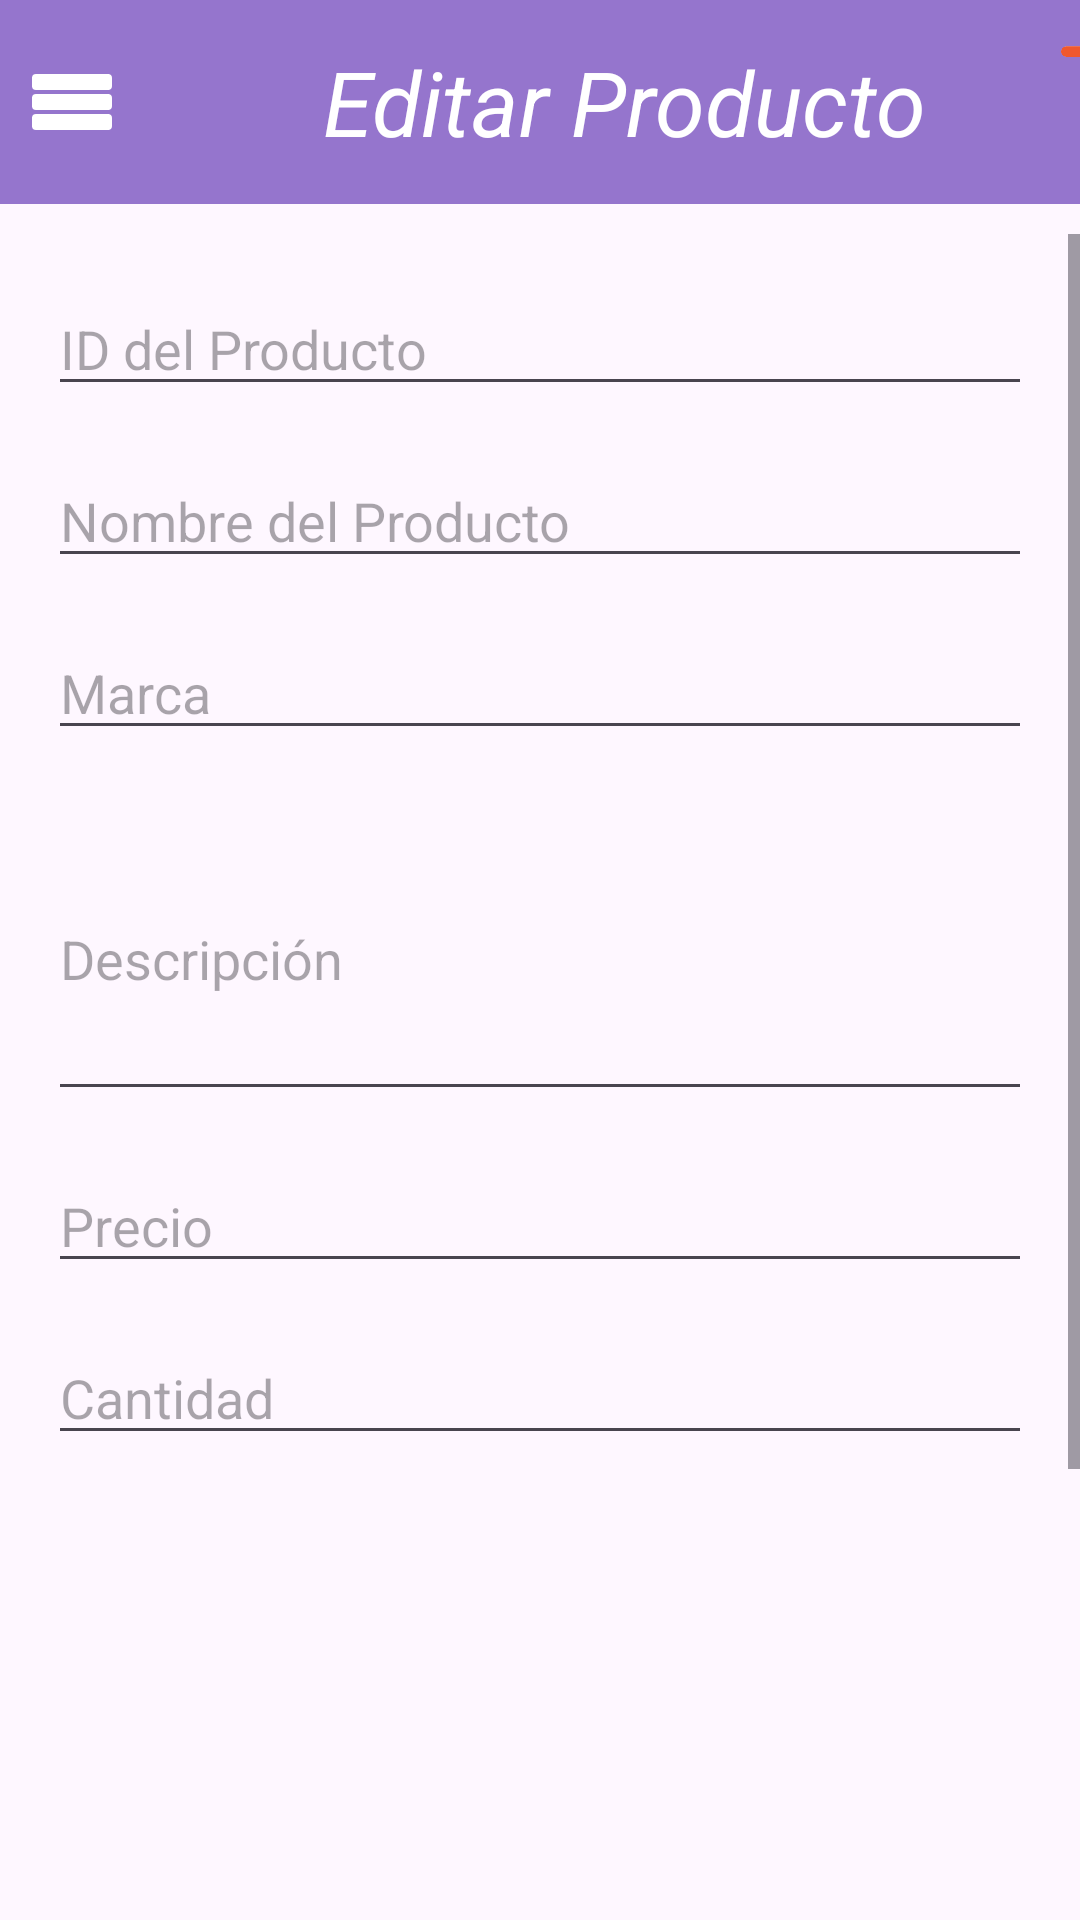

Point at icon controls on the screen. Image size 1080px×1920px, points as (x,y).
menu: (72,102)
